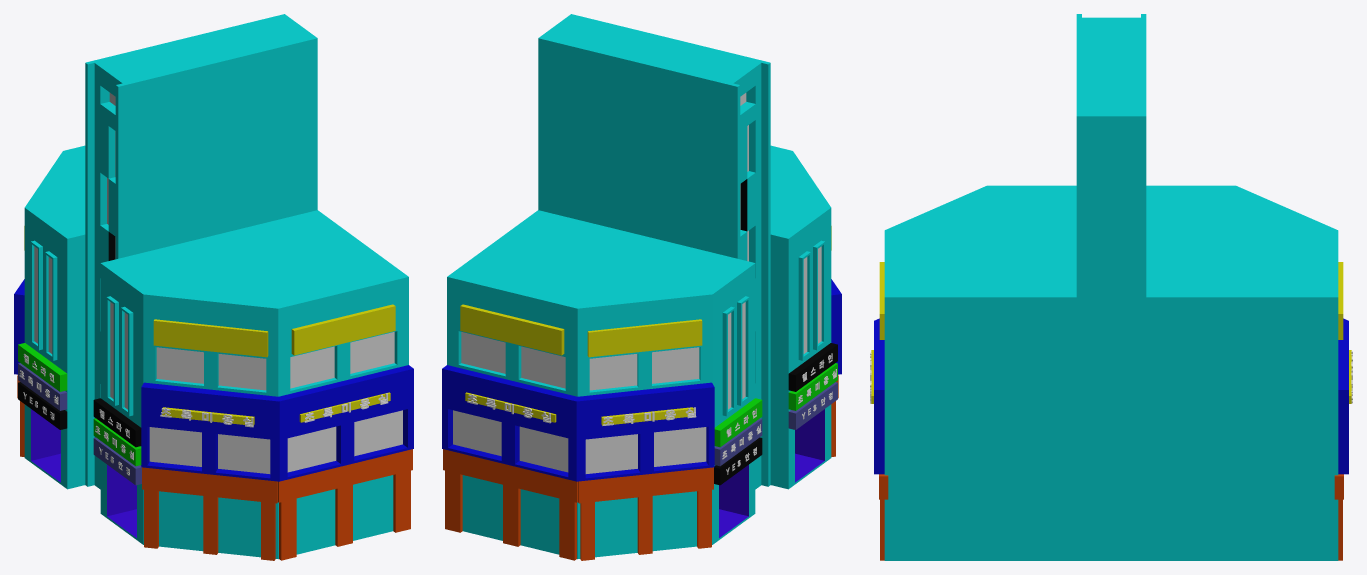
Rendered from Building_16.fbx.
3 renders of one model, left to right at view 1: azimuth 30°, elevation 25°; view 2: azimuth 150°, elevation 25°; view 3: azimuth 270°, elevation 25°, orthographic. The views are drawn at different scales.
Parts seen in each view (by area): view 1: Building_16; view 2: Building_16; view 3: Building_16.
Boxes of the visible parts, left/top/right/bottom form: Building_16: left=14, top=14, right=413, bottom=560; Building_16: left=442, top=14, right=841, bottom=560; Building_16: left=871, top=14, right=1351, bottom=560.
Bounding box in the file's own units: 118 × 210 × 206.
